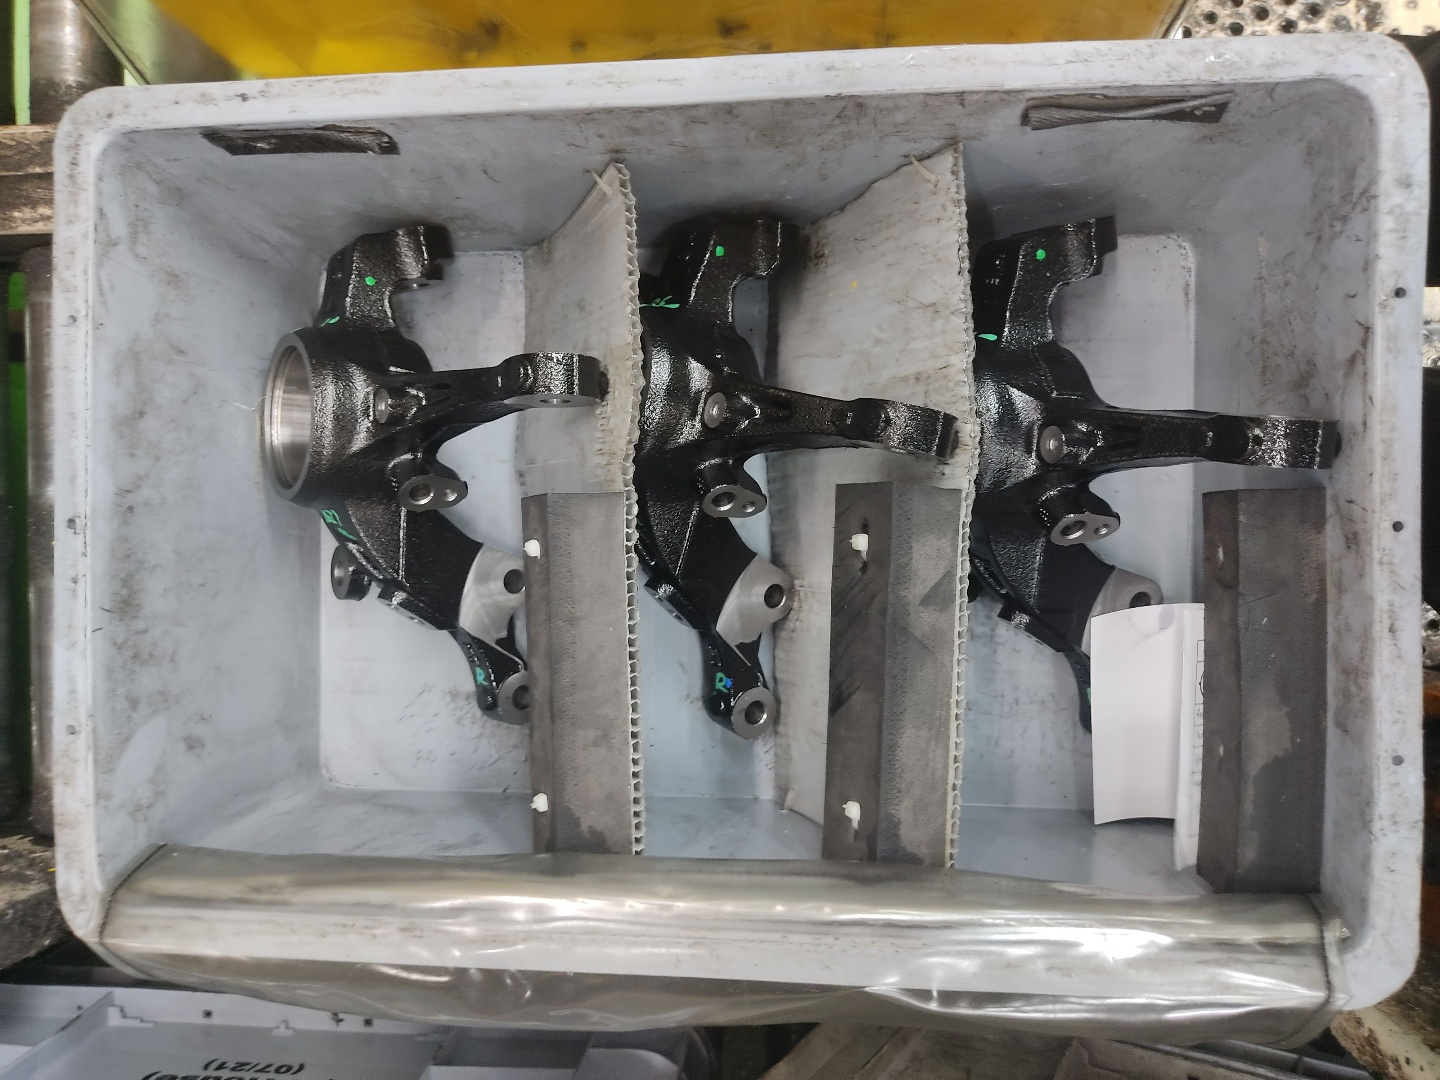abs-rh: (969, 195, 1344, 770), (622, 202, 964, 761), (254, 213, 615, 739)
